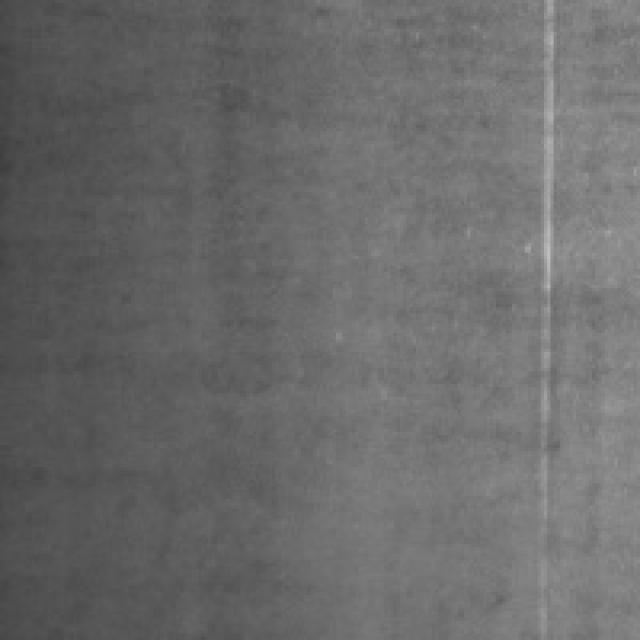scratches: (525, 0, 563, 589)
